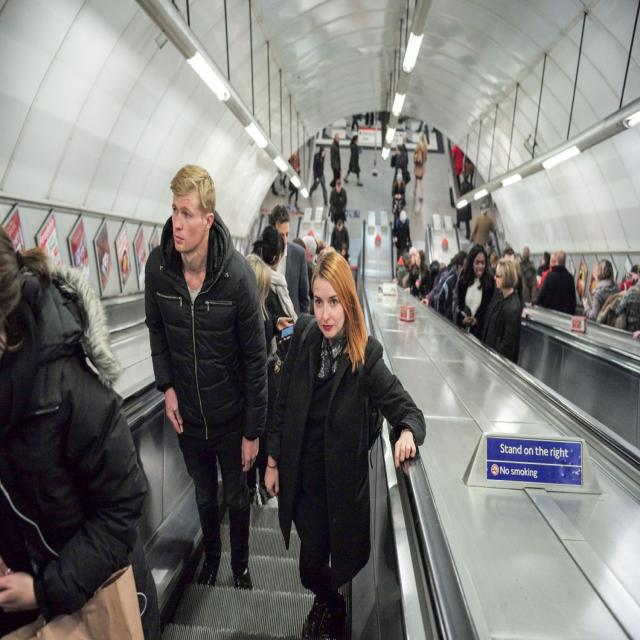body: (0, 221, 163, 640), (260, 244, 427, 639), (136, 161, 276, 598), (245, 251, 279, 514), (268, 204, 311, 326), (480, 255, 523, 366), (450, 242, 497, 340), (250, 224, 294, 317), (419, 249, 468, 317), (529, 250, 578, 316), (292, 230, 338, 290), (582, 258, 622, 322), (501, 248, 534, 320), (614, 264, 640, 334), (618, 263, 640, 341), (452, 169, 474, 241), (308, 144, 330, 207), (469, 202, 497, 248), (517, 246, 538, 304), (391, 245, 416, 293), (342, 134, 364, 188), (412, 129, 428, 201), (410, 250, 432, 302), (393, 208, 413, 262), (391, 167, 407, 231), (390, 144, 412, 188), (537, 251, 558, 295), (329, 178, 348, 226), (329, 218, 350, 261), (462, 137, 476, 190), (329, 133, 342, 190), (451, 144, 465, 196), (288, 150, 300, 210), (413, 118, 437, 142), (480, 234, 495, 266), (270, 170, 287, 197), (536, 250, 552, 277), (350, 113, 362, 132)
